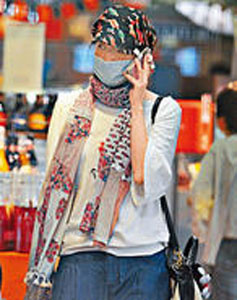mask: (91, 32, 146, 98)
